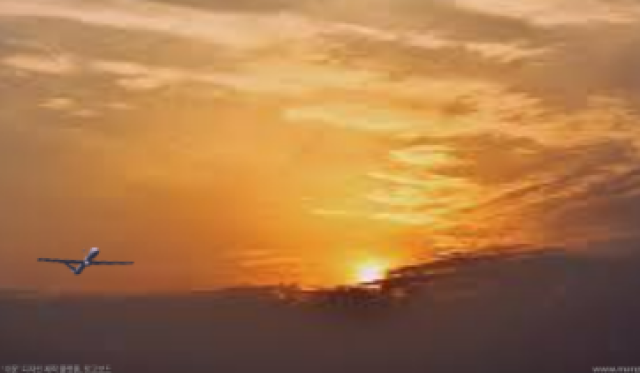military drone: (36, 245, 134, 276)
